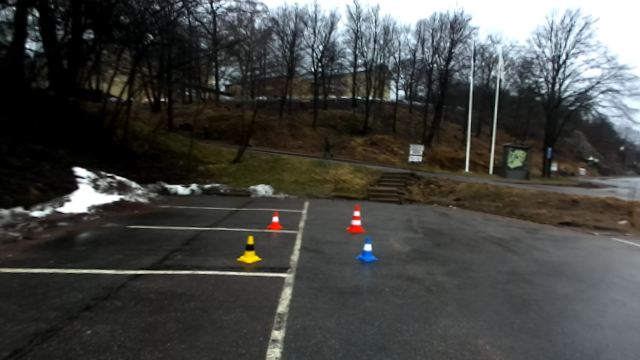blue: (356, 235, 378, 264)
orange: (267, 210, 283, 230)
orange2: (344, 203, 368, 233)
yellow: (236, 235, 263, 264)
